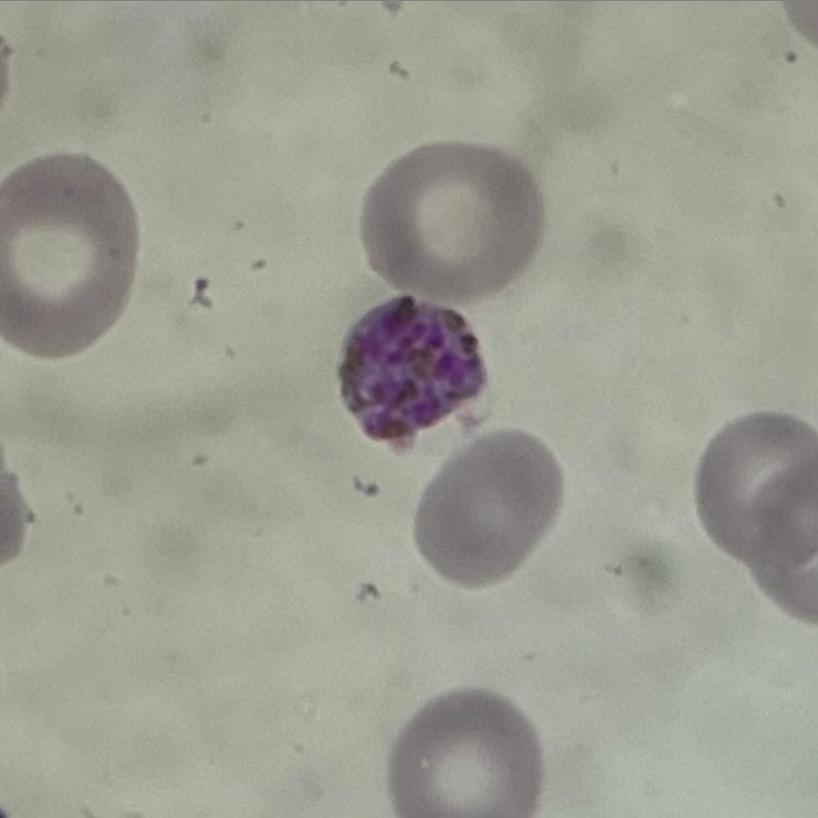Infected: (338, 294, 492, 452)
Uninfected: (363, 139, 544, 304), (0, 147, 139, 359), (420, 429, 563, 592), (393, 684, 544, 818), (695, 411, 818, 562)
